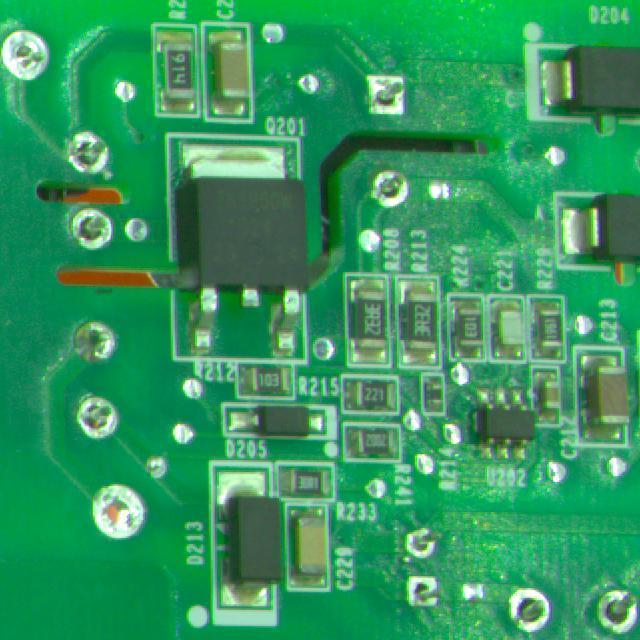Insufficient solder: (85, 476, 152, 554), (0, 26, 56, 89), (73, 388, 123, 449), (358, 67, 414, 120), (64, 206, 120, 254), (61, 129, 116, 177), (594, 587, 640, 640), (502, 584, 555, 629), (367, 169, 413, 213), (401, 522, 444, 566), (404, 571, 443, 614)
